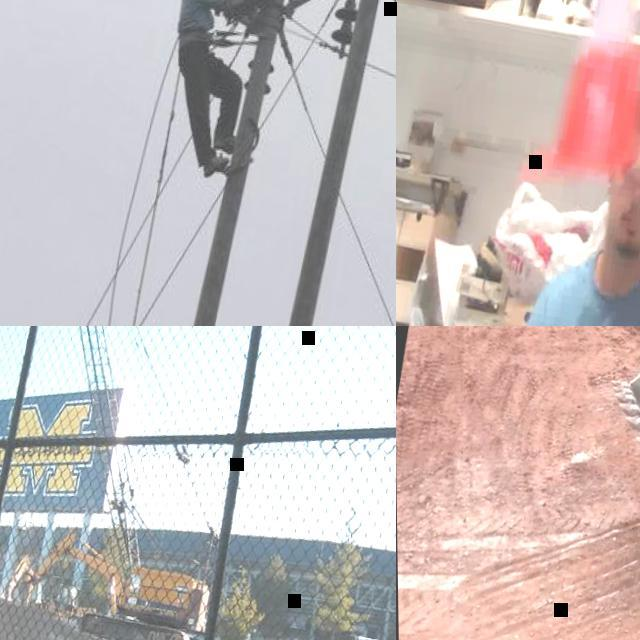machinery: (0, 519, 211, 640), (591, 326, 640, 640)
no_mask: (595, 184, 640, 259)
no_vest: (539, 246, 640, 326), (175, 0, 219, 39)
person: (509, 67, 640, 326), (148, 0, 272, 181)
safety_cone: (508, 0, 640, 207)
